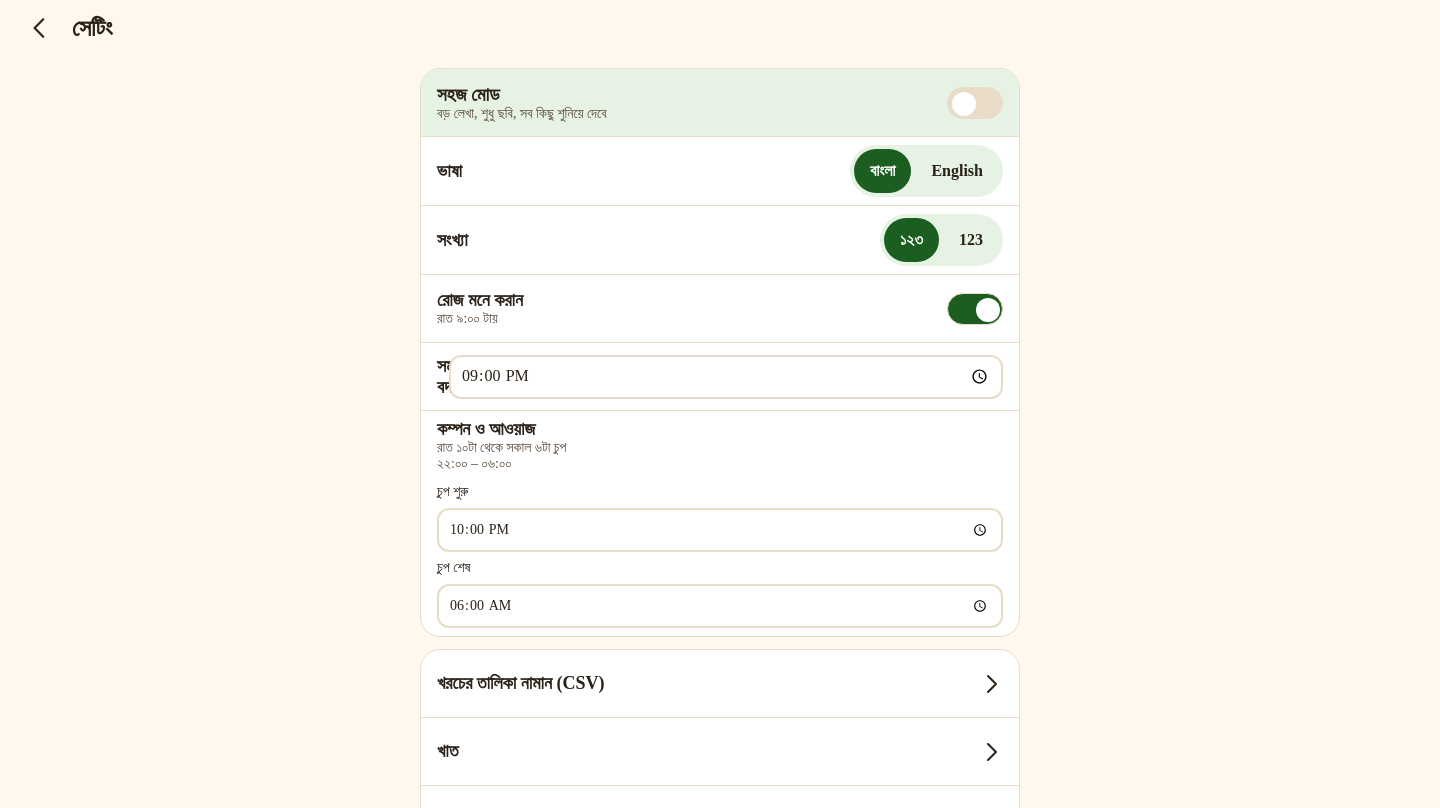
settings page › switching language changes labels on the page
The image size is (1440, 808).
What coordinates should you click on to do the following:
click the radio button labelled "English"
I would click on:
 (957, 171)
Its box is 915,149 -> 999,193.
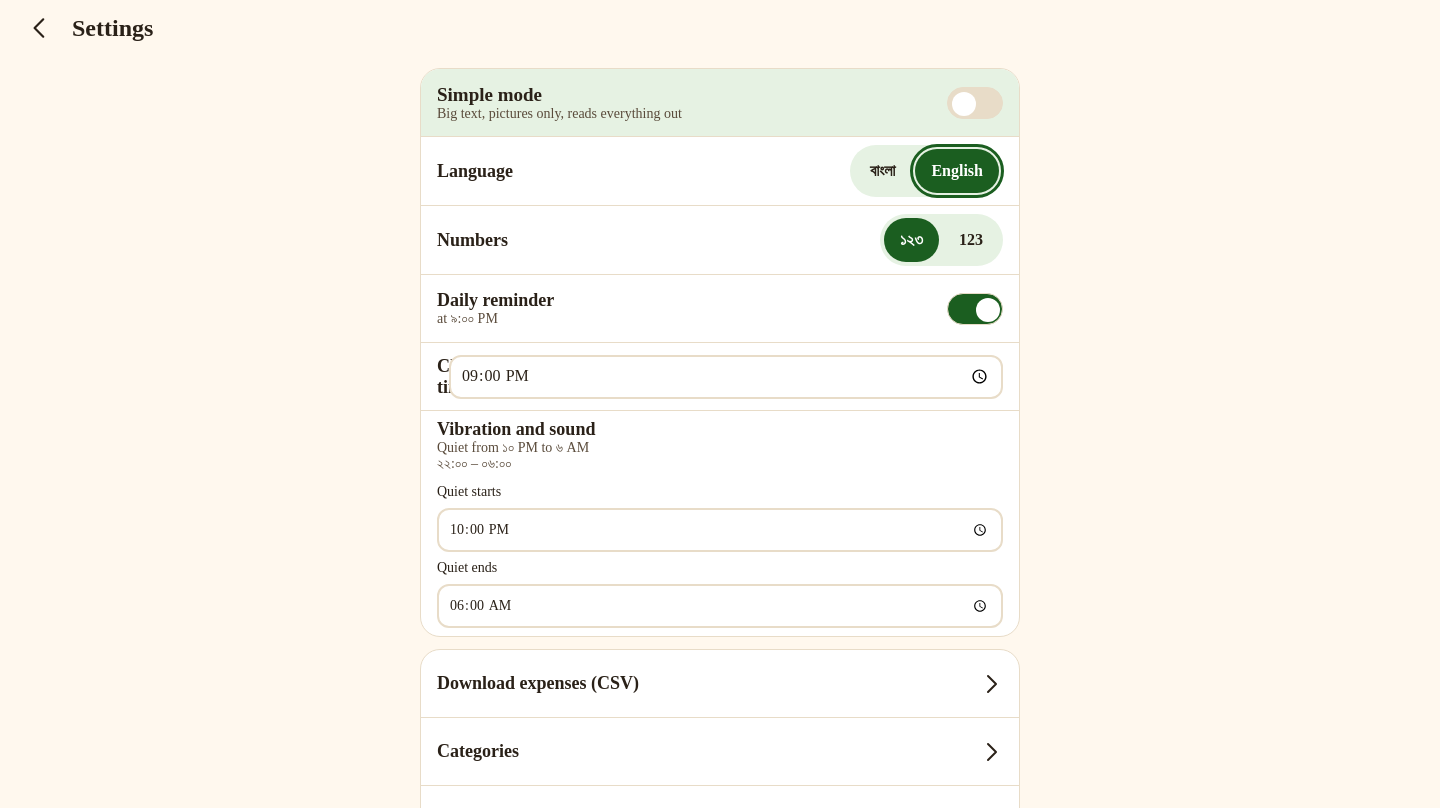
Result: the text "Simple mode" is shown at 437,84 -> 542,104
Result: the text "সহজ মোড" is gone
